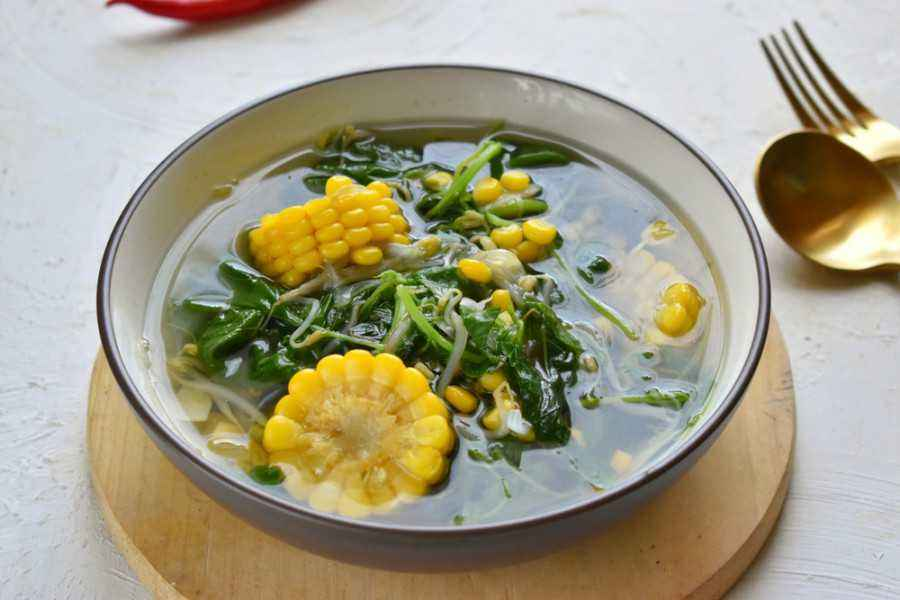Sayur Bayam: (66, 112, 725, 558)
